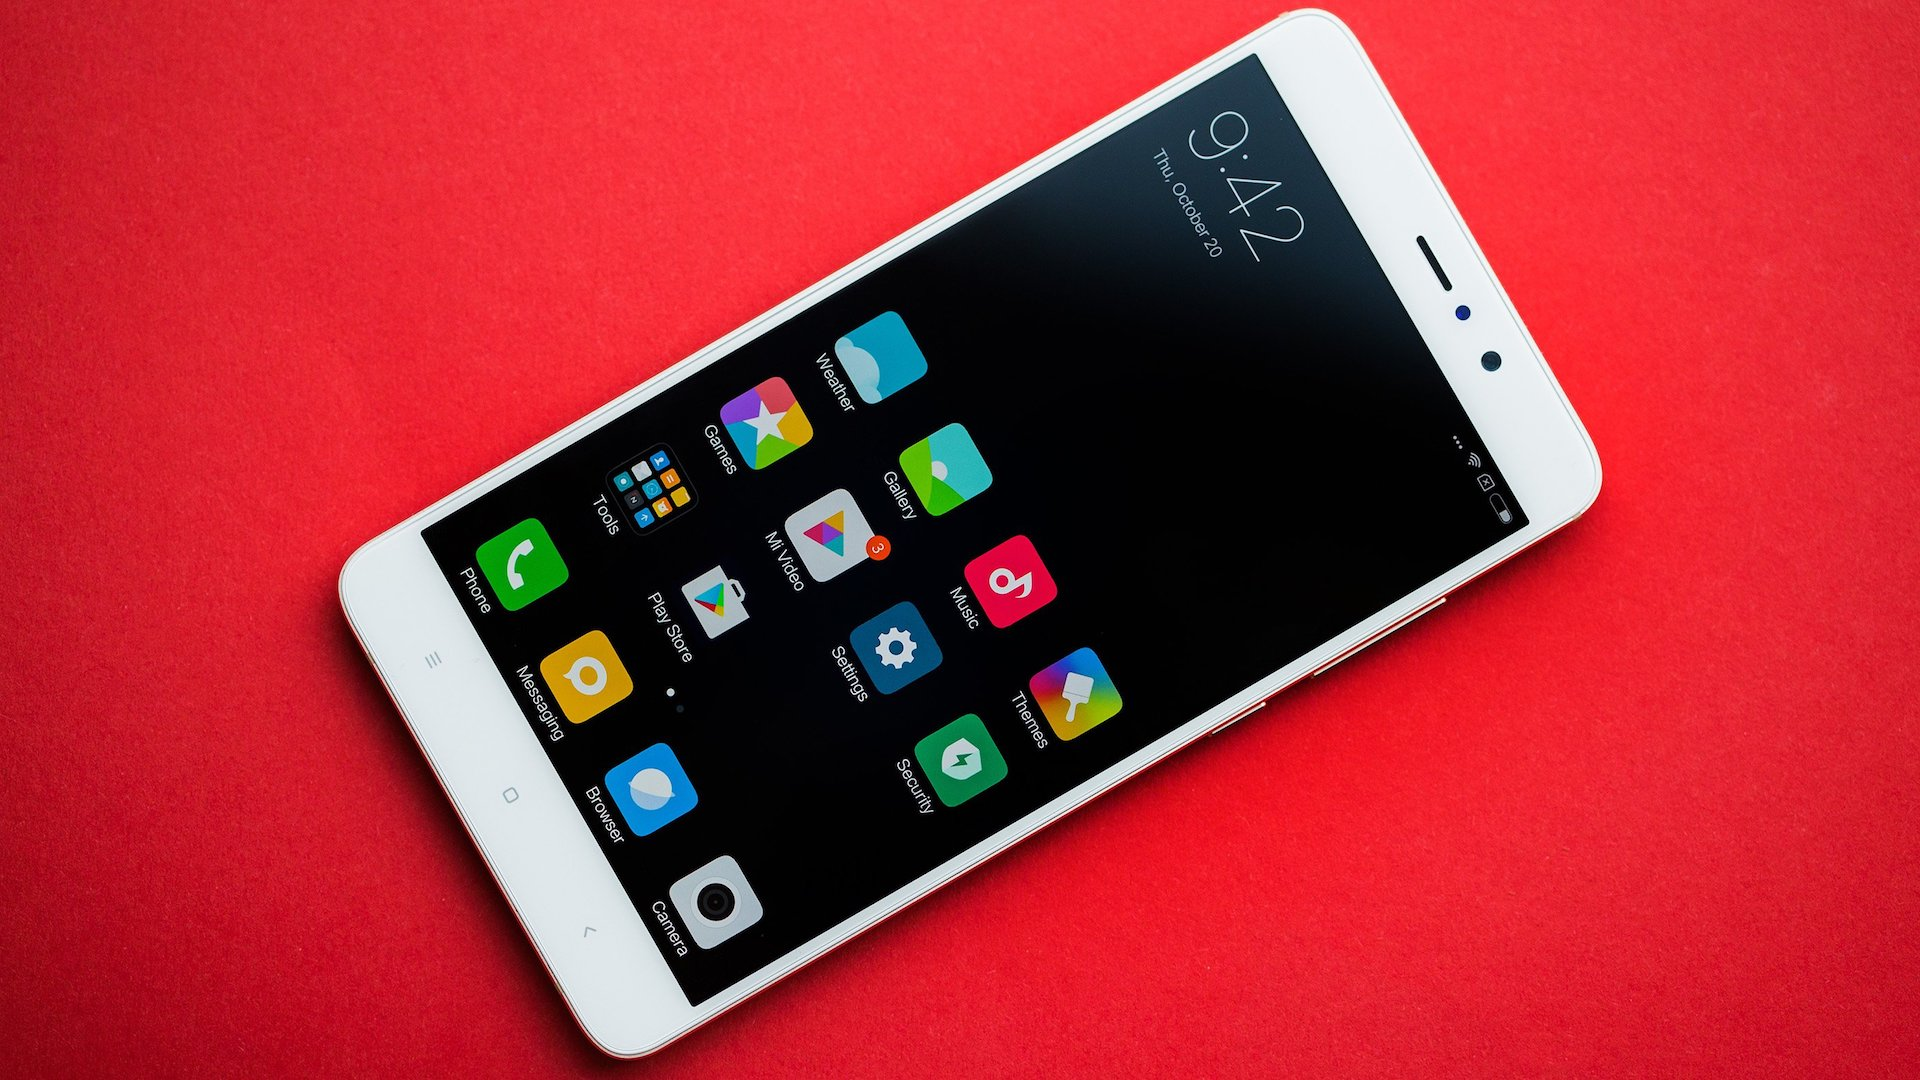smartphone: (330, 7, 1607, 1064)
